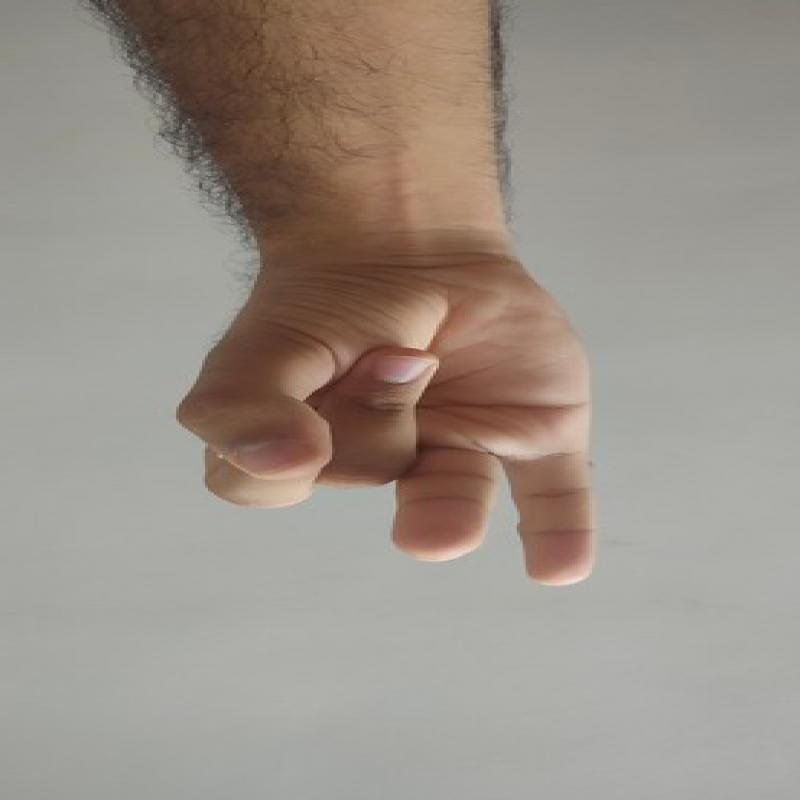Katakam: (142, 218, 651, 605)
